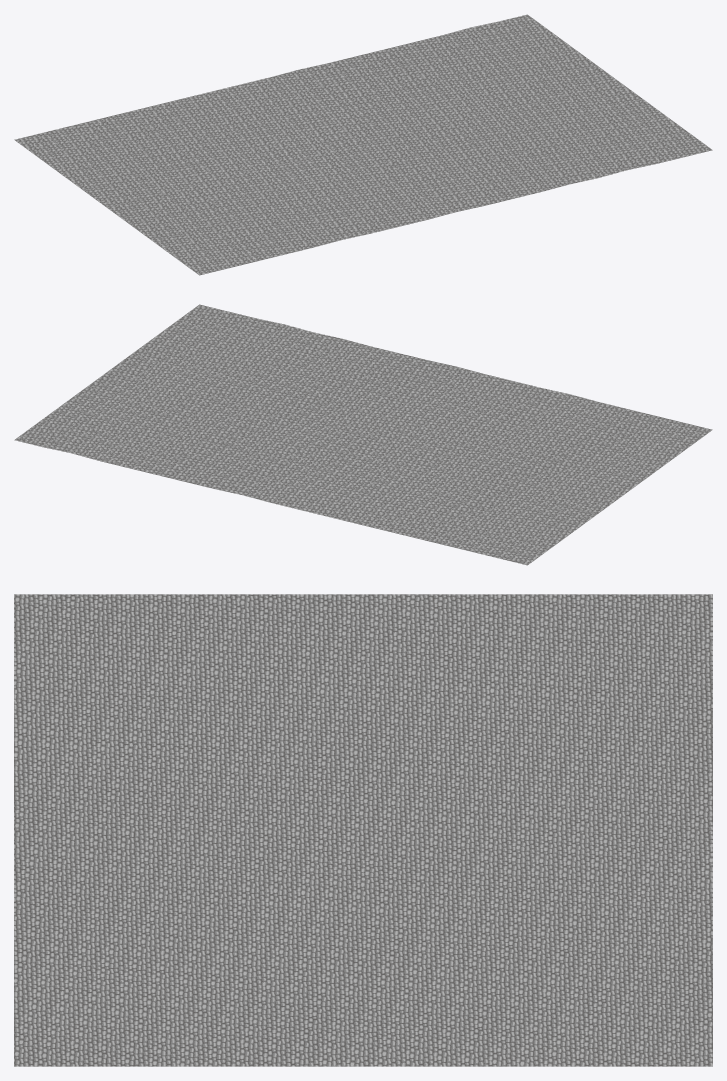
The model's file is Sol Ville.fbx.
3 renders of one model, top to bottom at view 1: azimuth 30°, elevation 25°; view 2: azimuth 150°, elevation 25°; view 3: azimuth 270°, elevation 25°, orthographic. The views are drawn at different scales.
Parts seen in each view (by area): view 1: Sol ville; view 2: Sol ville; view 3: Sol ville.
Part boxes in pixels (box(x1,y1,x2,y2)): Sol ville: box(14, 14, 712, 275); Sol ville: box(14, 304, 712, 565); Sol ville: box(14, 594, 712, 1066).
Bounding box in the file's own units: 10000 × 6254 × 16.11.
